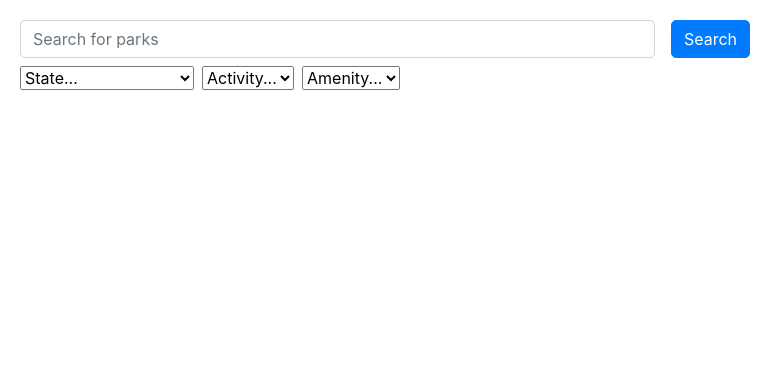
Test: Favorite button tests › successfully adds park to favorites
Type "Test Park" into the field with placeholder "Search for parks".
click(337, 39); type("Test Park")  # box [20,20,655,58]
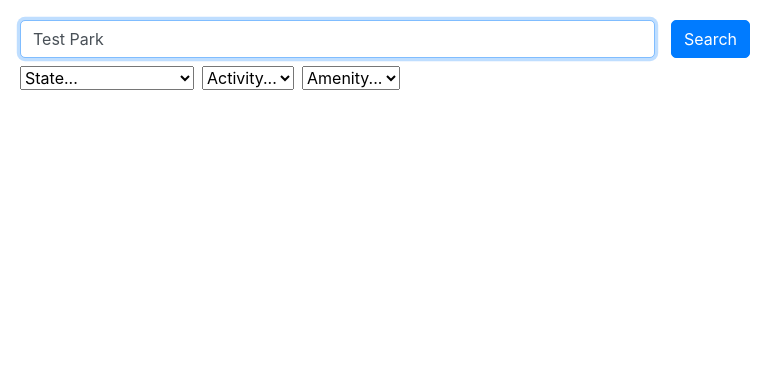
Click the button "Search".
click(710, 39)  # box [671,20,750,58]
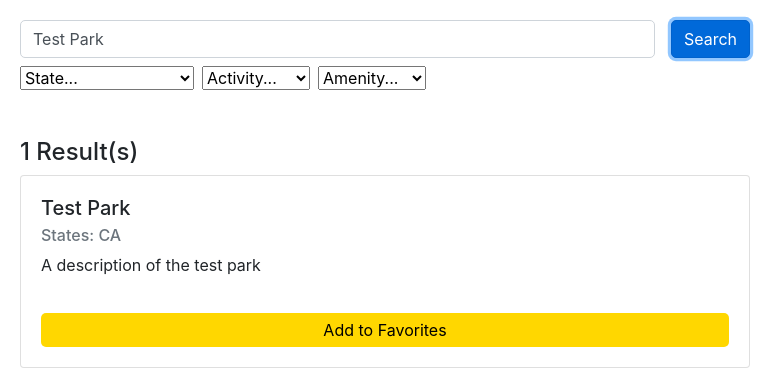
Expected: the heading "Test Park" is shown, [41,196,130,220]
Click the button "Add to Favorites".
click(385, 330)  # box [41,313,729,347]
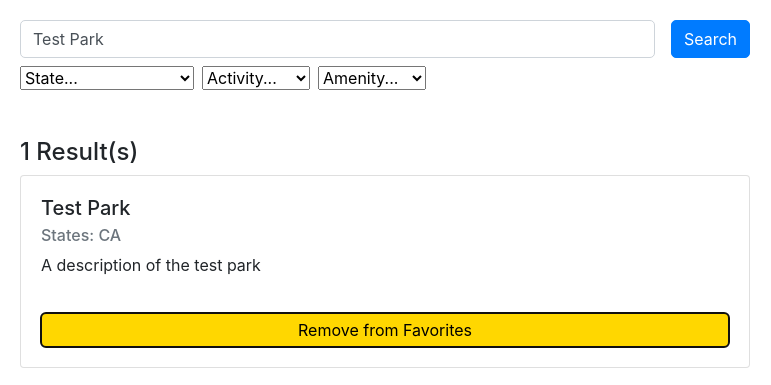
Expected: the button named "Add to Favorites" reads "Remove from Favorites", [41,313,729,347]
